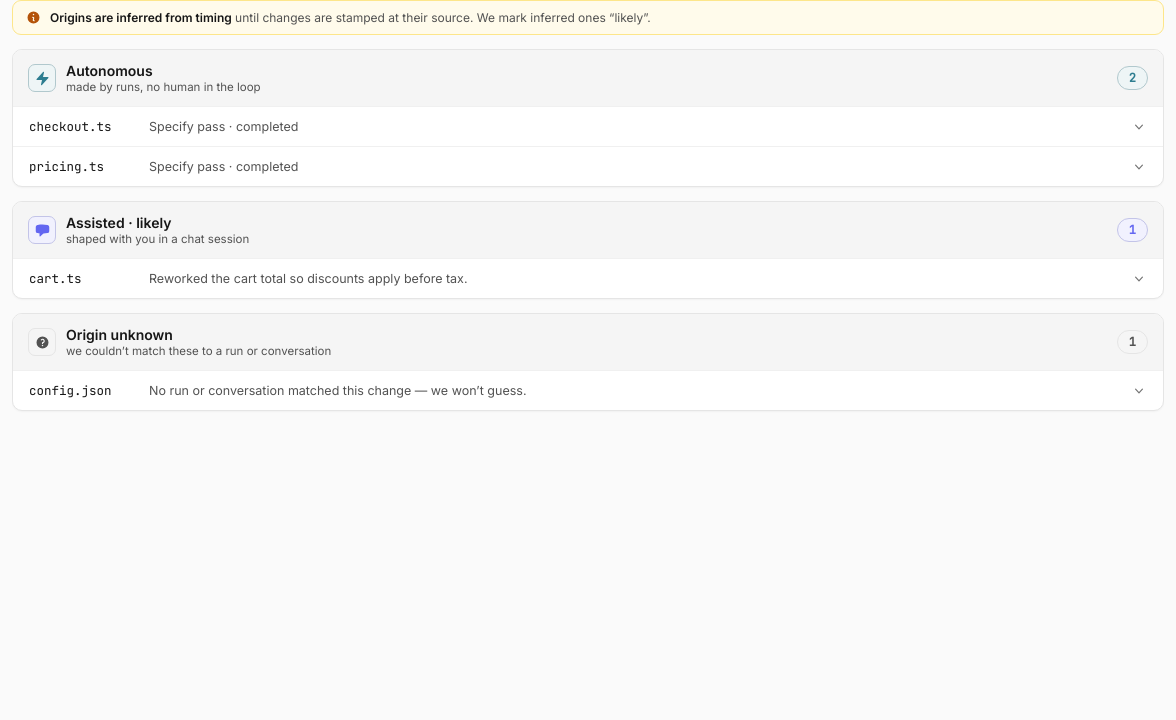
Scenario: <HowItCameToBeLens /> — grouped origins (WP-P10) › keeps it light — a row's trace is hidden until the row is expanded
Click the button with test id "lens-row" that starts with "cart.ts" at (55, 278), box top-left (13, 259), bottom-right (1163, 298)
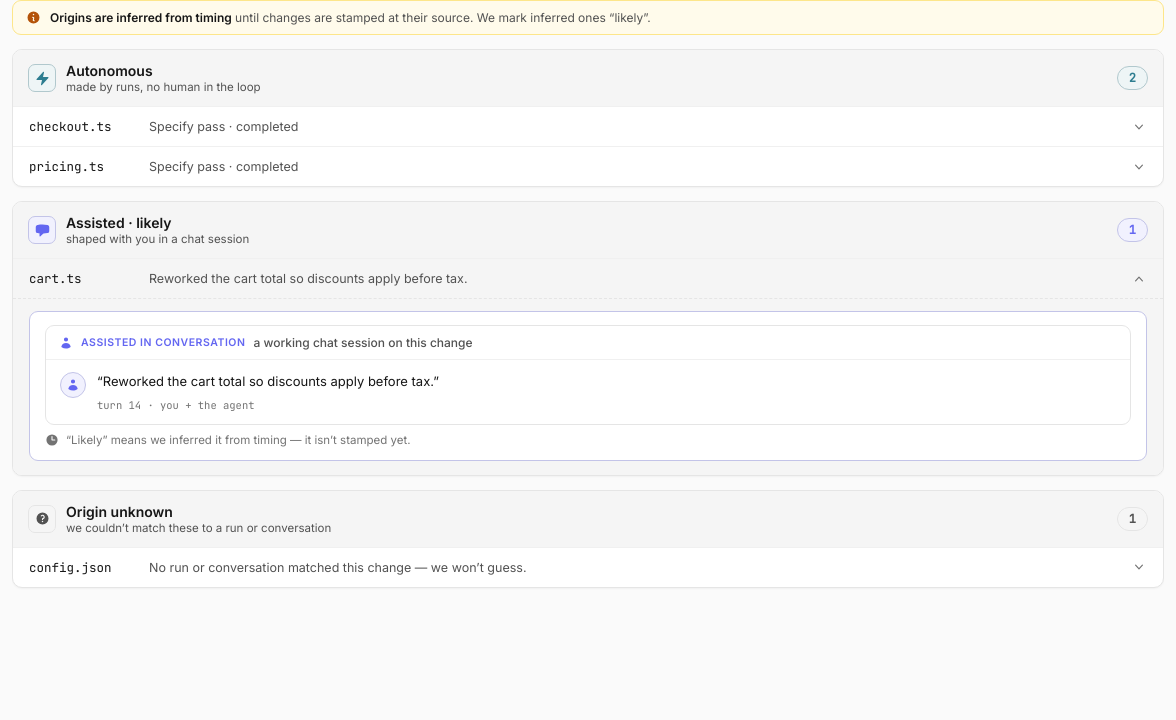
Now the text "“Reworked the cart total so discounts apply before tax.”" is shown, box top-left (97, 372), bottom-right (439, 392)
